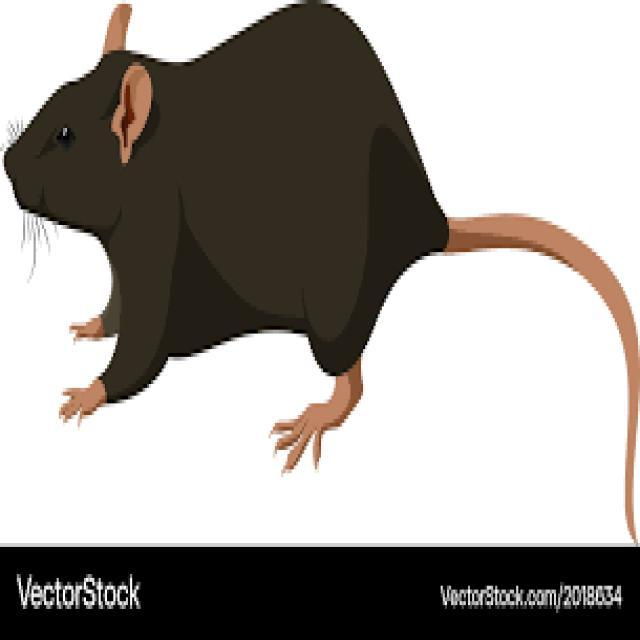Rat: (4, 4, 531, 408)
